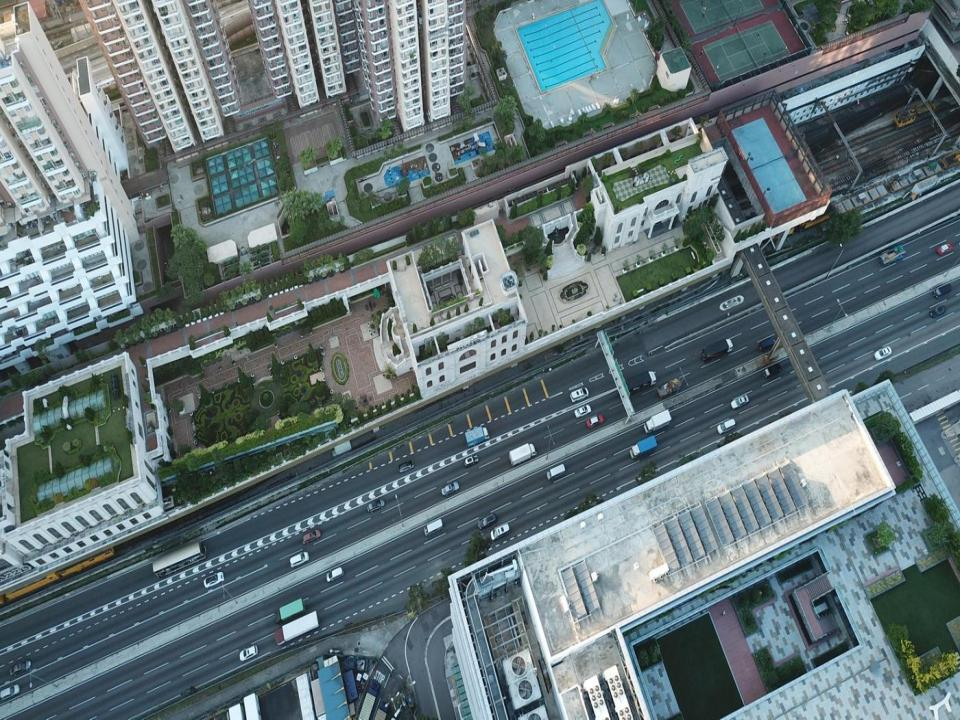bus: (152, 541, 206, 578)
car: (9, 660, 31, 677), (239, 645, 258, 663), (204, 572, 223, 589), (302, 528, 321, 545), (478, 513, 496, 529), (874, 345, 892, 361), (730, 395, 749, 410), (442, 482, 460, 497), (574, 404, 591, 419), (586, 414, 604, 428), (368, 498, 384, 513), (930, 304, 946, 318), (935, 243, 952, 255), (465, 453, 478, 467), (398, 461, 414, 472)
truck: (274, 610, 319, 646), (357, 680, 381, 718), (621, 369, 656, 395), (295, 674, 315, 719), (702, 337, 733, 361), (644, 409, 672, 435), (629, 434, 658, 459), (275, 599, 305, 623), (310, 677, 326, 718), (508, 443, 536, 466), (879, 244, 905, 266), (464, 425, 489, 447), (656, 378, 682, 398), (244, 694, 260, 718)
van: (289, 551, 310, 568), (422, 519, 443, 536), (0, 684, 21, 700), (546, 464, 566, 480), (333, 440, 351, 457), (570, 387, 588, 403), (490, 525, 510, 539), (759, 335, 776, 351), (326, 567, 344, 582), (934, 284, 952, 299), (718, 419, 735, 434), (762, 364, 780, 377)
